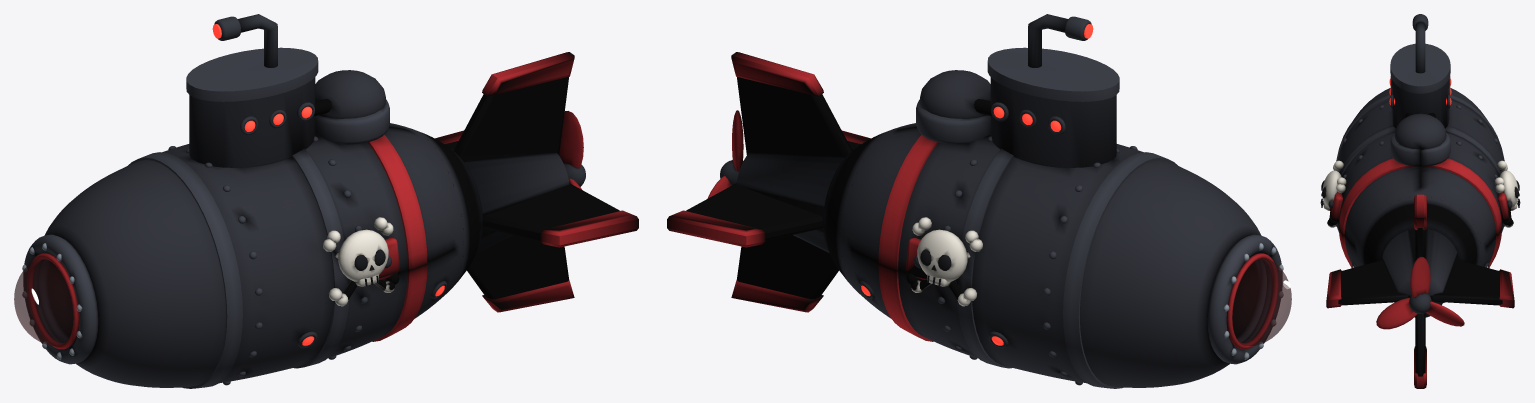
Rendered from enemy_gunner.glb.
3 renders of one model, left to right at view 1: azimuth 30°, elevation 25°; view 2: azimuth 150°, elevation 25°; view 3: azimuth 270°, elevation 25°, orthographic. The views are drawn at different scales.
Parts seen in each view (by area): view 1: enemy_gunner_body, skull_mark_optional.001, propeller.002; view 2: enemy_gunner_body, skull_mark_optional.001, propeller.002; view 3: enemy_gunner_body, propeller.002, skull_mark_optional.001.
Part boxes in pixels (box(x1,y1,x2,y2)): enemy_gunner_body: box(14, 14, 638, 388); skull_mark_optional.001: box(323, 217, 399, 306); propeller.002: box(559, 111, 585, 189); enemy_gunner_body: box(667, 14, 1291, 388); skull_mark_optional.001: box(906, 217, 982, 306); propeller.002: box(707, 110, 743, 198); enemy_gunner_body: box(1326, 14, 1514, 388); propeller.002: box(1376, 256, 1464, 329); skull_mark_optional.001: box(1320, 160, 1520, 227).
Bounding box in the file's own units: 4.55 × 2.78 × 1.99.
